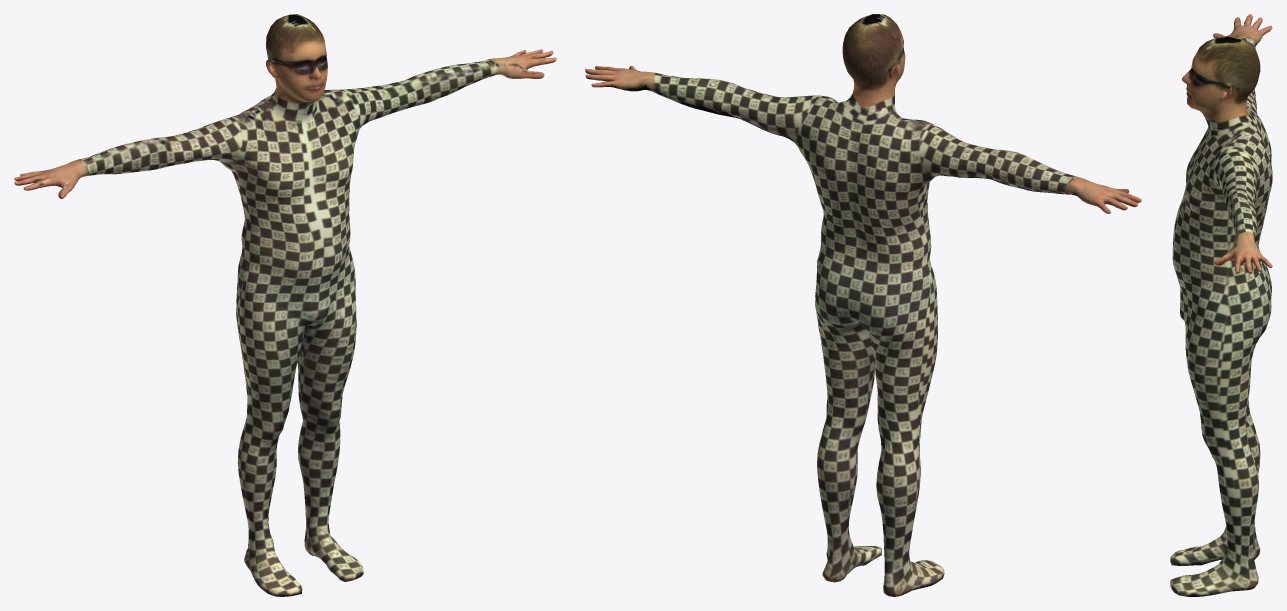
File: SMPLWithSocks_tri.obj
3 views of the same model, side by side, from view 1: azimuth 30°, elevation 25°; view 2: azimuth 150°, elevation 25°; view 3: azimuth 270°, elevation 25° (orthographic). The views are drawn at different scales.
Bounding box in the file's own units: 1.84 × 1.79 × 0.3098.
